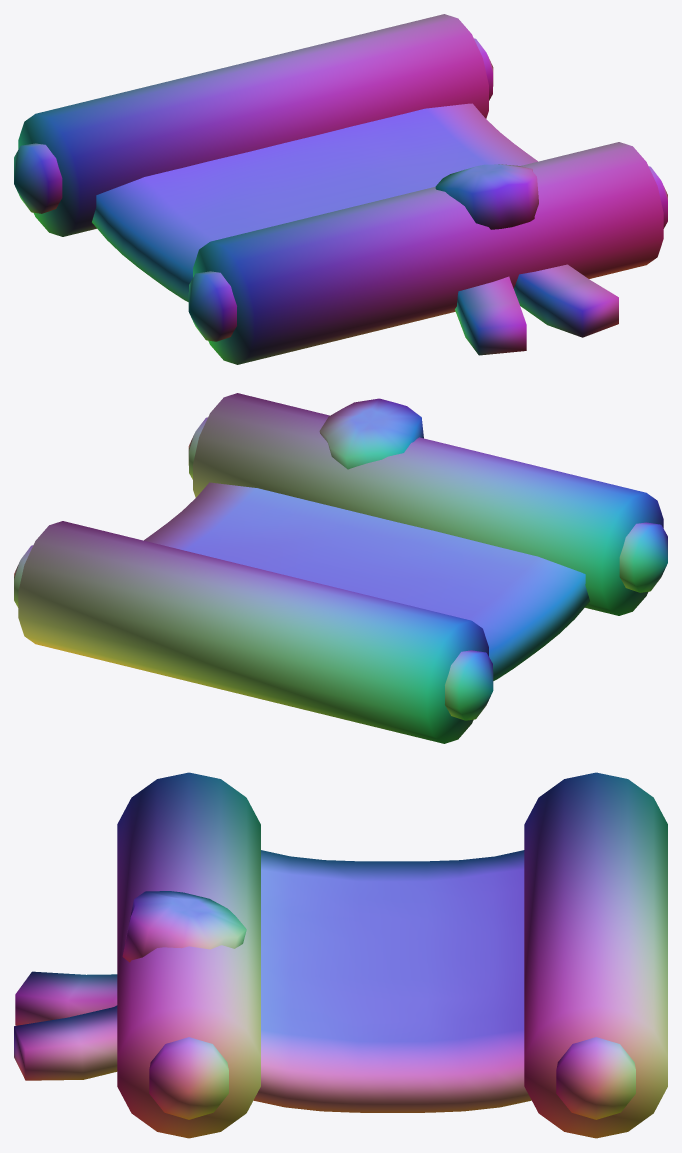
File: SM_Pickup_Scroll_TP.fbx
3 views of the same model, one above another, from view 1: azimuth 30°, elevation 25°; view 2: azimuth 150°, elevation 25°; view 3: azimuth 270°, elevation 25° (orthographic). The views are drawn at different scales.
Parts seen in each view (by area): view 1: SM_Pickup_Scroll_TP; view 2: SM_Pickup_Scroll_TP; view 3: SM_Pickup_Scroll_TP.
Part boxes in pixels (bbox=[...]): SM_Pickup_Scroll_TP: bbox=[14, 14, 667, 364]; SM_Pickup_Scroll_TP: bbox=[14, 393, 667, 743]; SM_Pickup_Scroll_TP: bbox=[14, 772, 667, 1138].
Size of the model in its own units: 0.369 by 0.0963 by 0.3743.
